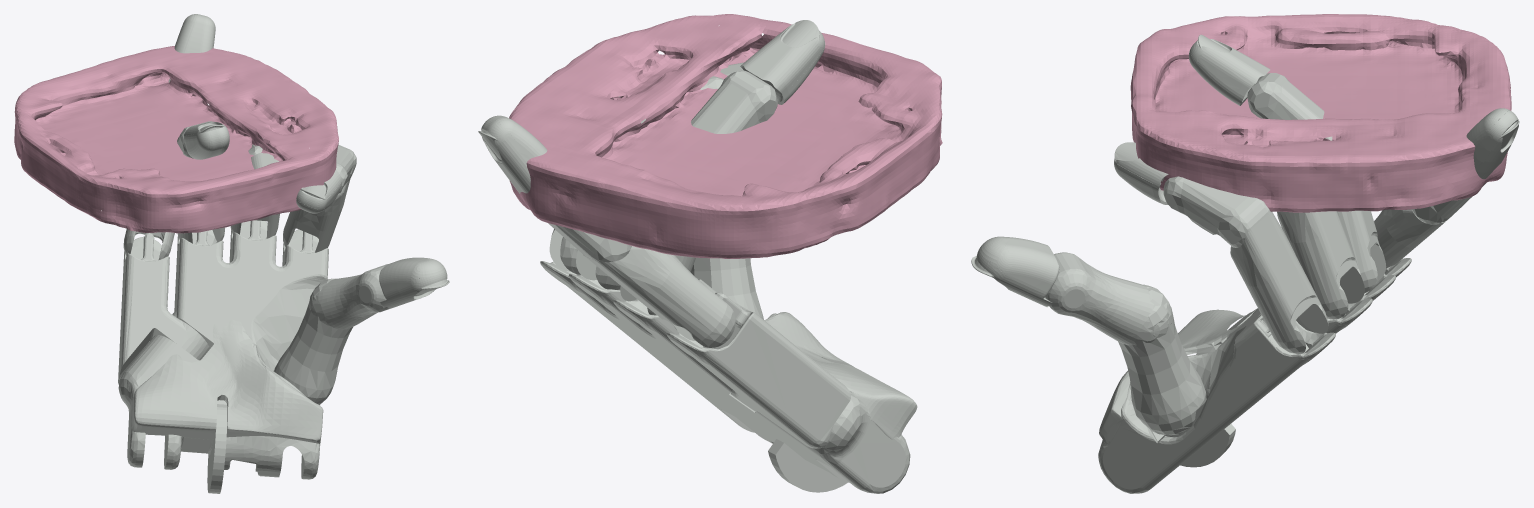
The picture shows the model from 3 angles, left to right: view 1: azimuth 30°, elevation 25°; view 2: azimuth 150°, elevation 25°; view 3: azimuth 270°, elevation 25°; orthographic projection. The views are drawn at different scales.
Visible parts, largest first — view 1: hand, world; view 2: world, hand; view 3: hand, world.
Boxes of the visible parts, box(x1,y1,x2,y2) form: hand: box(118, 14, 449, 493); world: box(14, 46, 338, 233); world: box(509, 14, 942, 258); hand: box(478, 20, 917, 493); hand: box(971, 34, 1519, 493); world: box(1130, 14, 1511, 212).
Size of the model in its own units: 0.1318 by 0.1642 by 0.1892.
